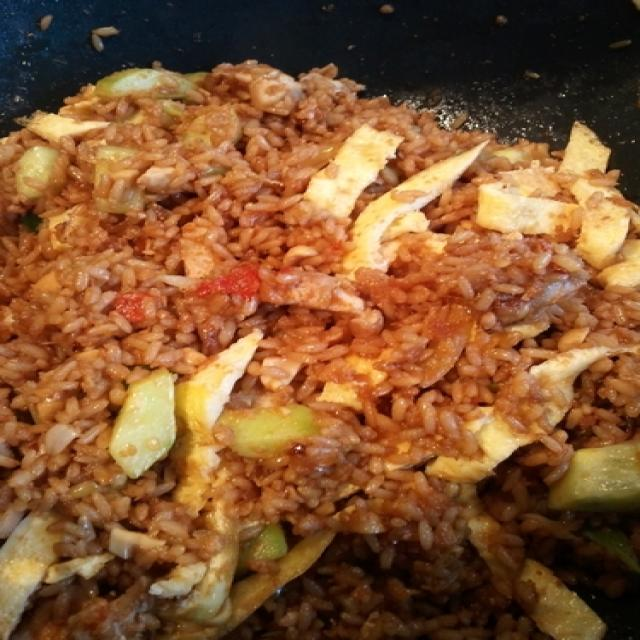米饭主食: (14, 37, 611, 611)
